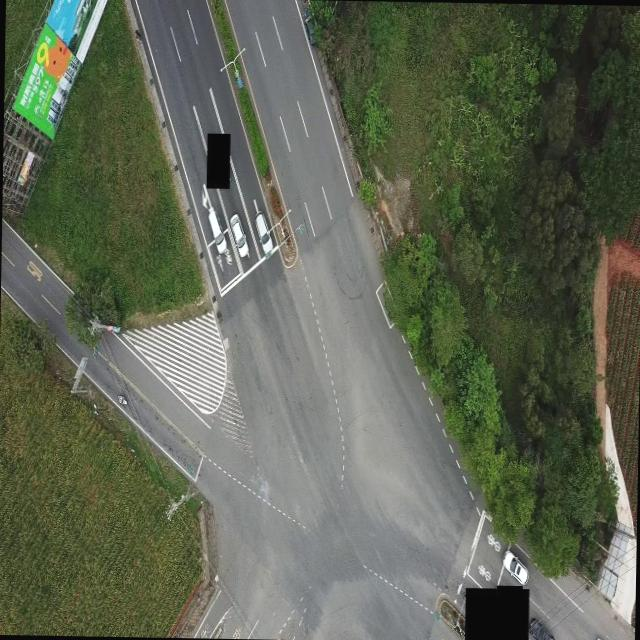bike: (116, 390, 127, 406)
car: (204, 208, 227, 256), (228, 213, 249, 260), (254, 211, 274, 257), (502, 550, 529, 584), (528, 617, 556, 640), (592, 636, 617, 640)
